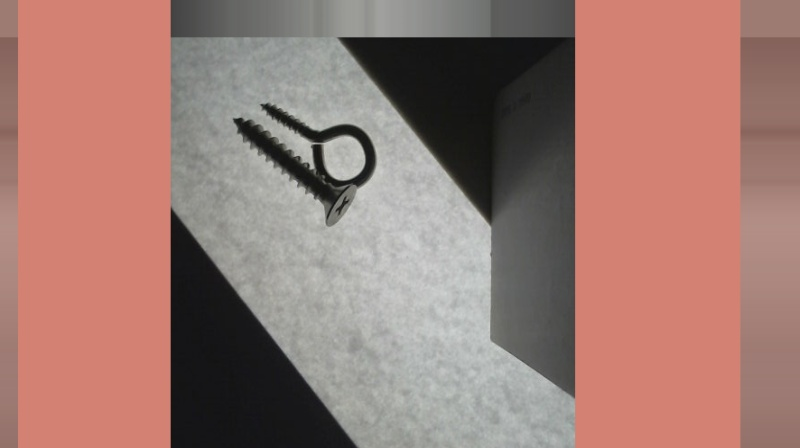O001: (257, 99, 377, 191)
S001: (231, 113, 359, 227)
